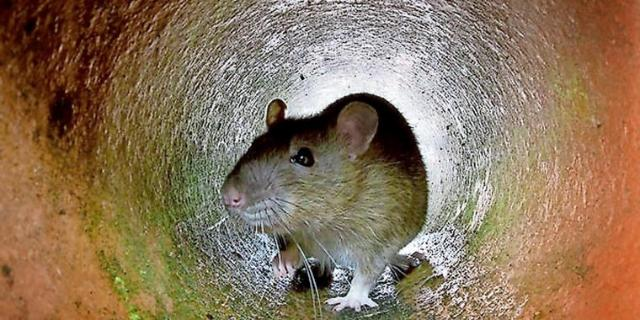rat: (204, 91, 436, 312)
